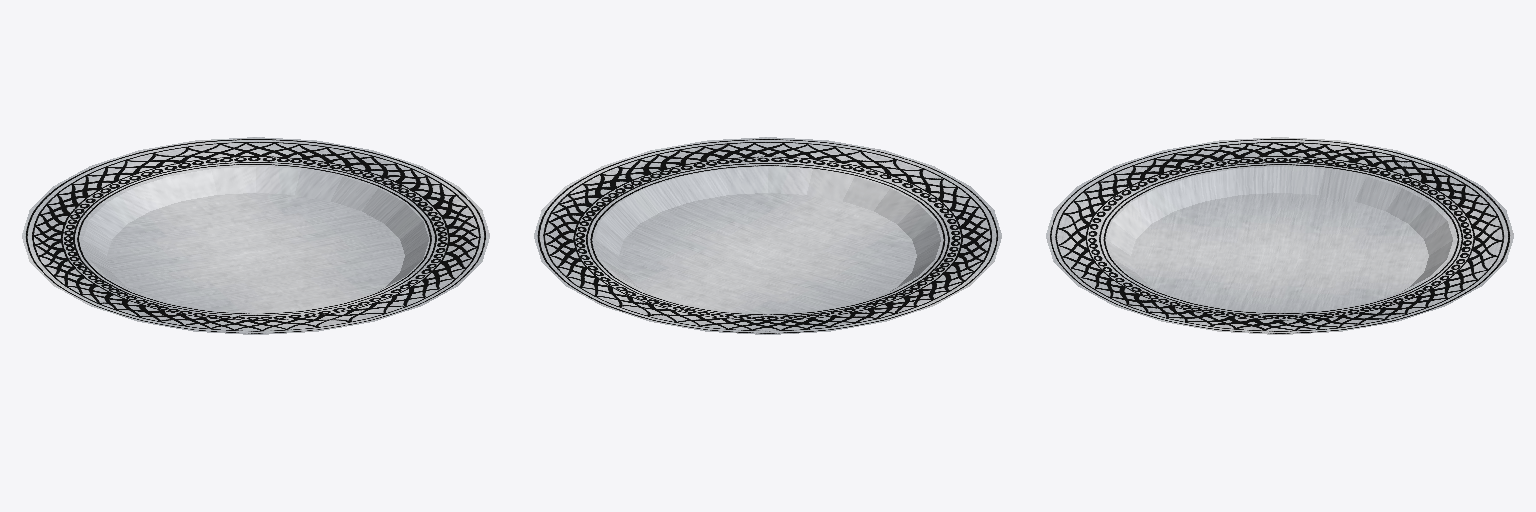
3 views of the same model, side by side, from view 1: azimuth 30°, elevation 25°; view 2: azimuth 150°, elevation 25°; view 3: azimuth 270°, elevation 25° (orthographic).
Parts seen in each view (by area): view 1: skin; view 2: skin; view 3: skin.
Boxes of the visible parts, x1=… form: skin: x1=22, y1=137, x2=489, y2=334; skin: x1=534, y1=137, x2=1001, y2=334; skin: x1=1046, y1=137, x2=1513, y2=334.
Bounding box in the file's own units: 15.12 × 1.41 × 15.12.
Materials: 1 (1 with a texture image).